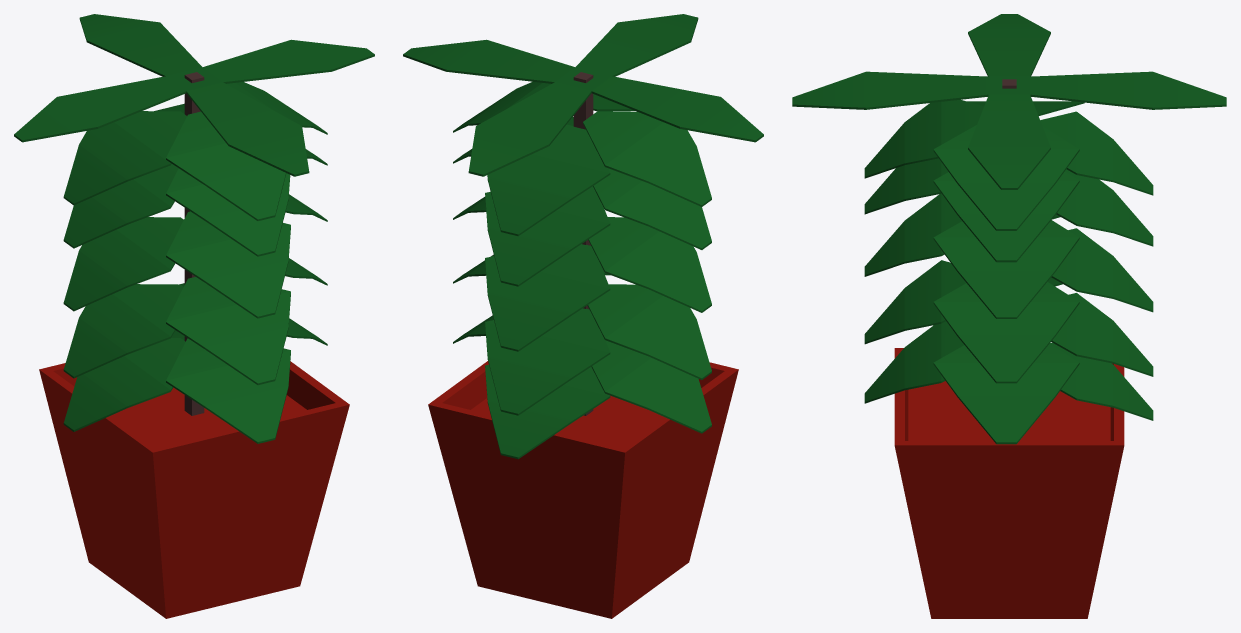
Rendered from PotPlant 2.0.fbx.
3 views of the same model, side by side, from view 1: azimuth 30°, elevation 25°; view 2: azimuth 150°, elevation 25°; view 3: azimuth 270°, elevation 25° (orthographic).
Visible parts, largest first — view 1: pCube30; view 2: pCube30; view 3: pCube30.
Part boxes in pixels (bbox=[...]): pCube30: bbox=[14, 14, 374, 618]; pCube30: bbox=[403, 14, 763, 618]; pCube30: bbox=[792, 14, 1226, 618].
Size of the model in its own units: 201 by 272 by 212.
